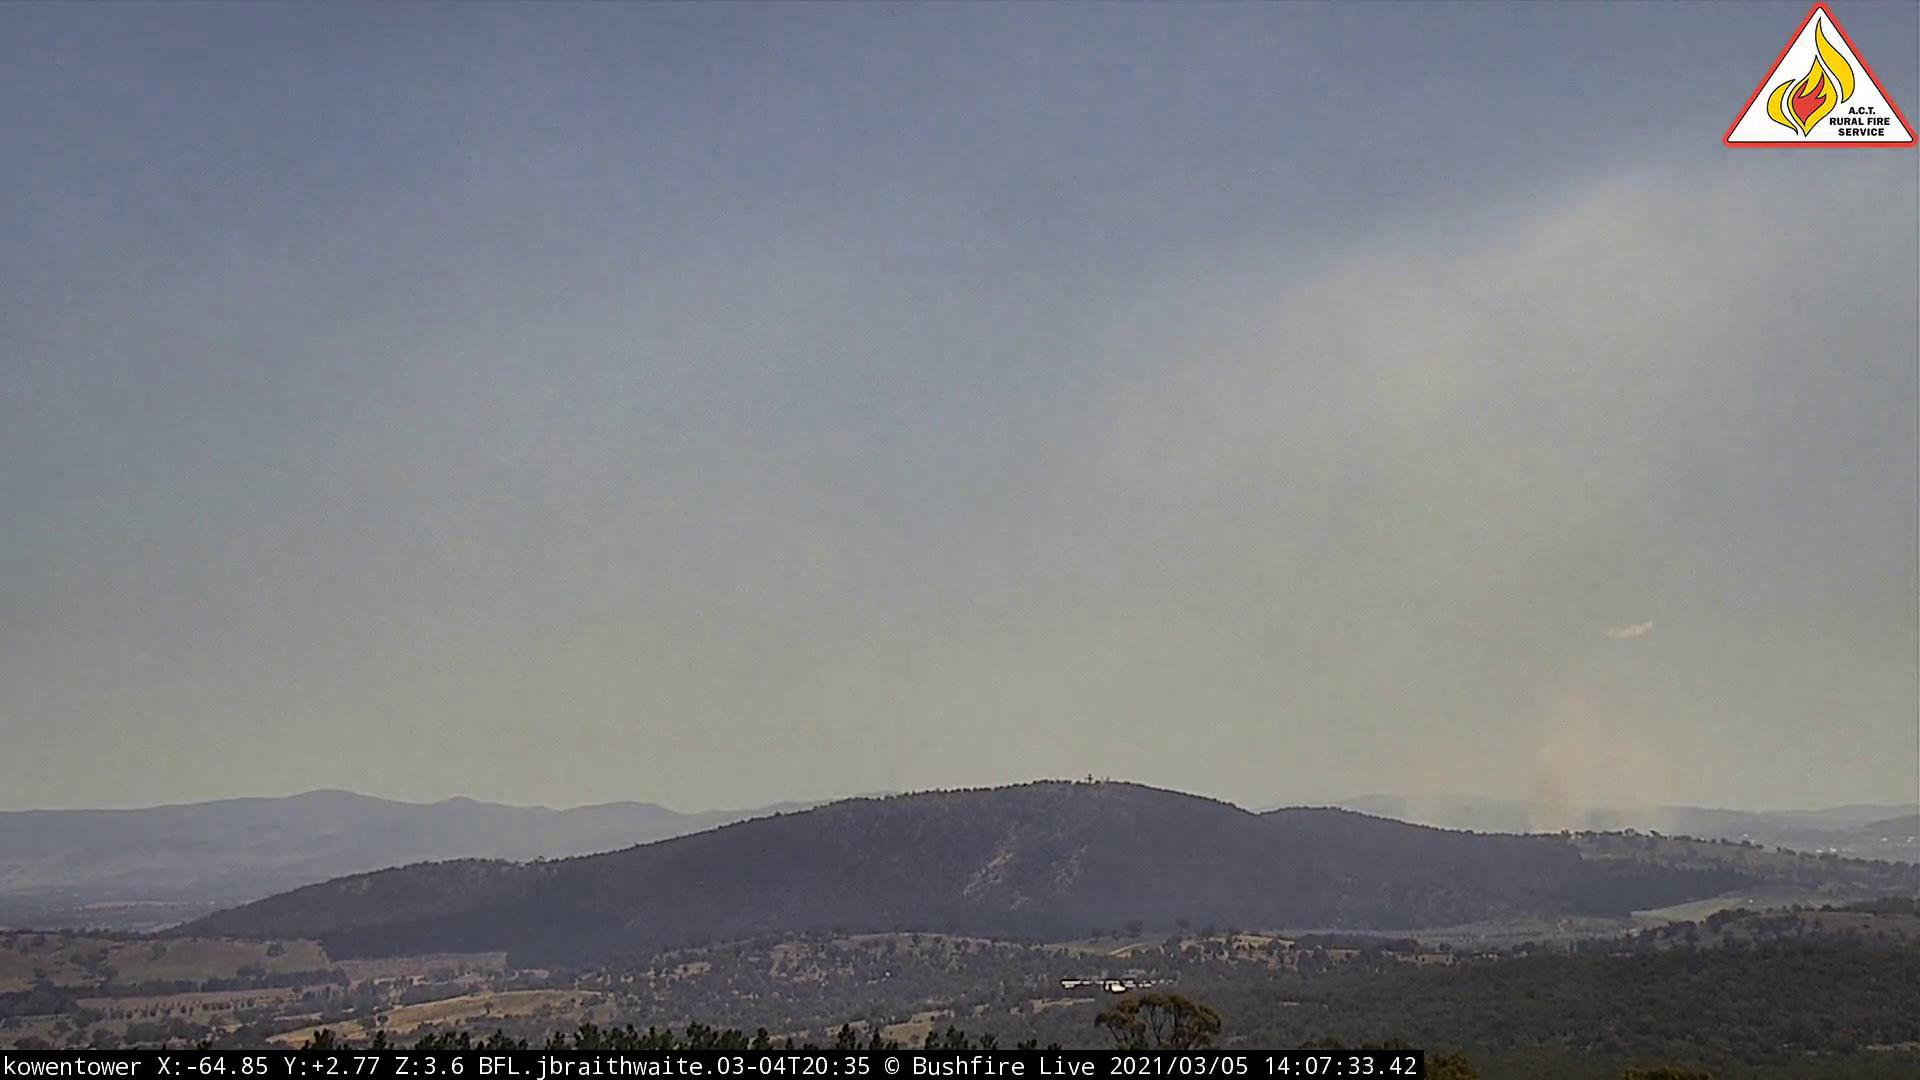instance_salient_object: (1342, 604, 1721, 844)
